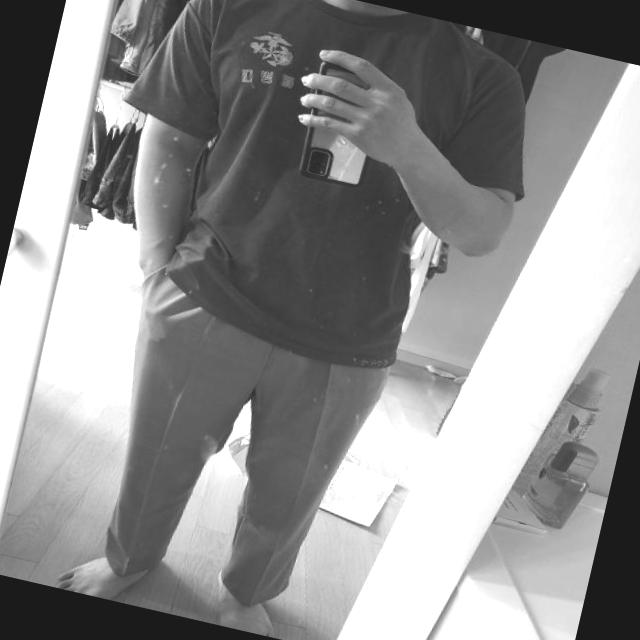shortsleeve: (75, 0, 552, 394)
slacks: (80, 260, 406, 625)
